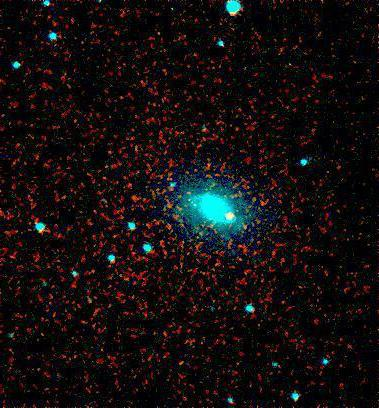star: (214, 202, 244, 232)
